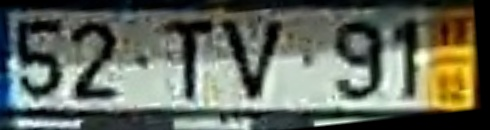1: (390, 15, 424, 102)
2: (66, 18, 122, 102)
5: (15, 17, 66, 101)
9: (331, 17, 386, 103)
T: (160, 18, 218, 105)
V: (218, 18, 288, 104)
